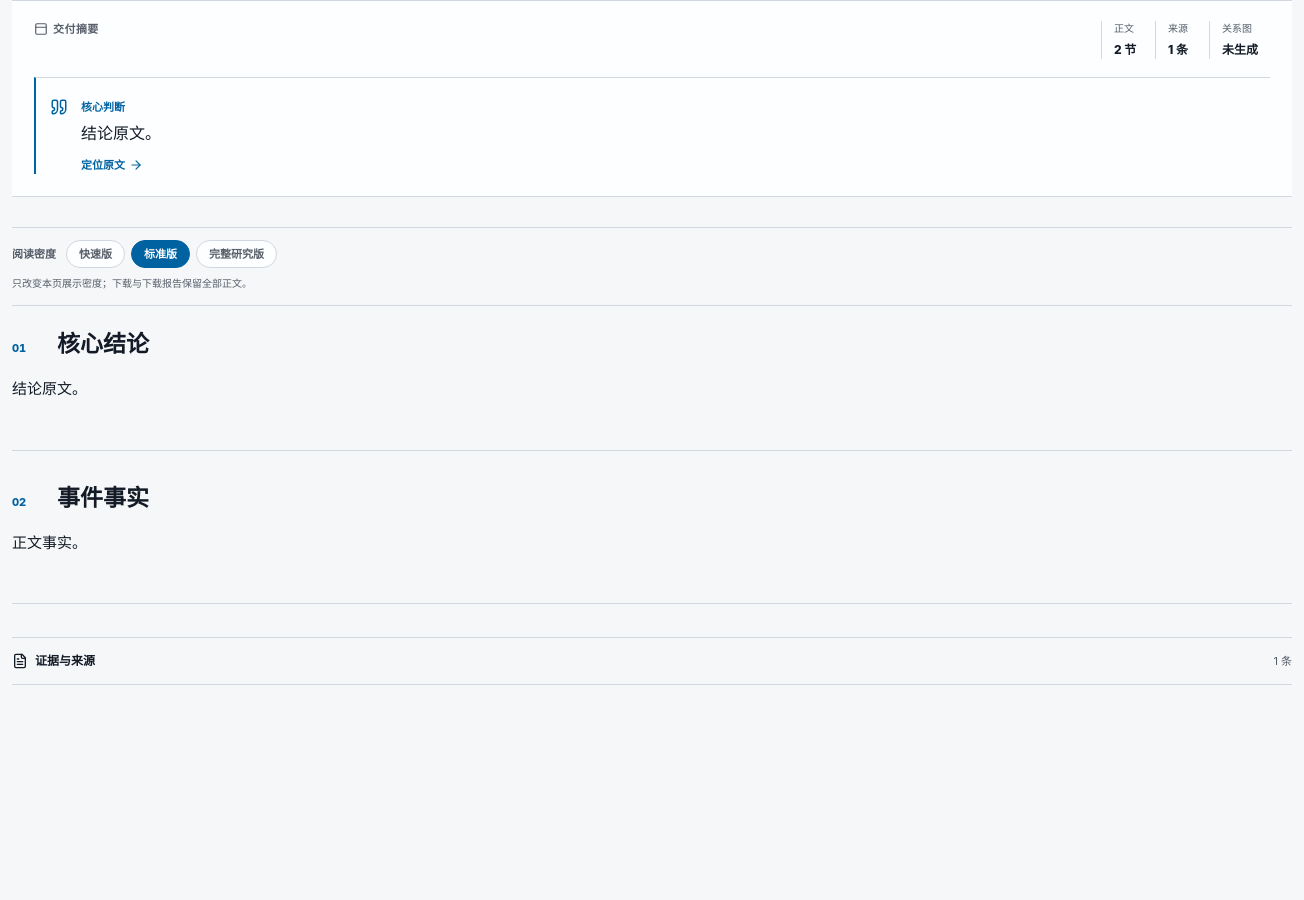
Scenario: ReportPresentation › keeps sources folded until the reader explicitly opens them
Expected: the text "核心判断" is shown, [81,100,125,114]
Expected: the text "结论原文。" is shown 2 times, [81,125,161,142]; [12,379,87,398]
Click the button with aria-label "展开证据与来源": (65, 661) [12,638,1292,684]
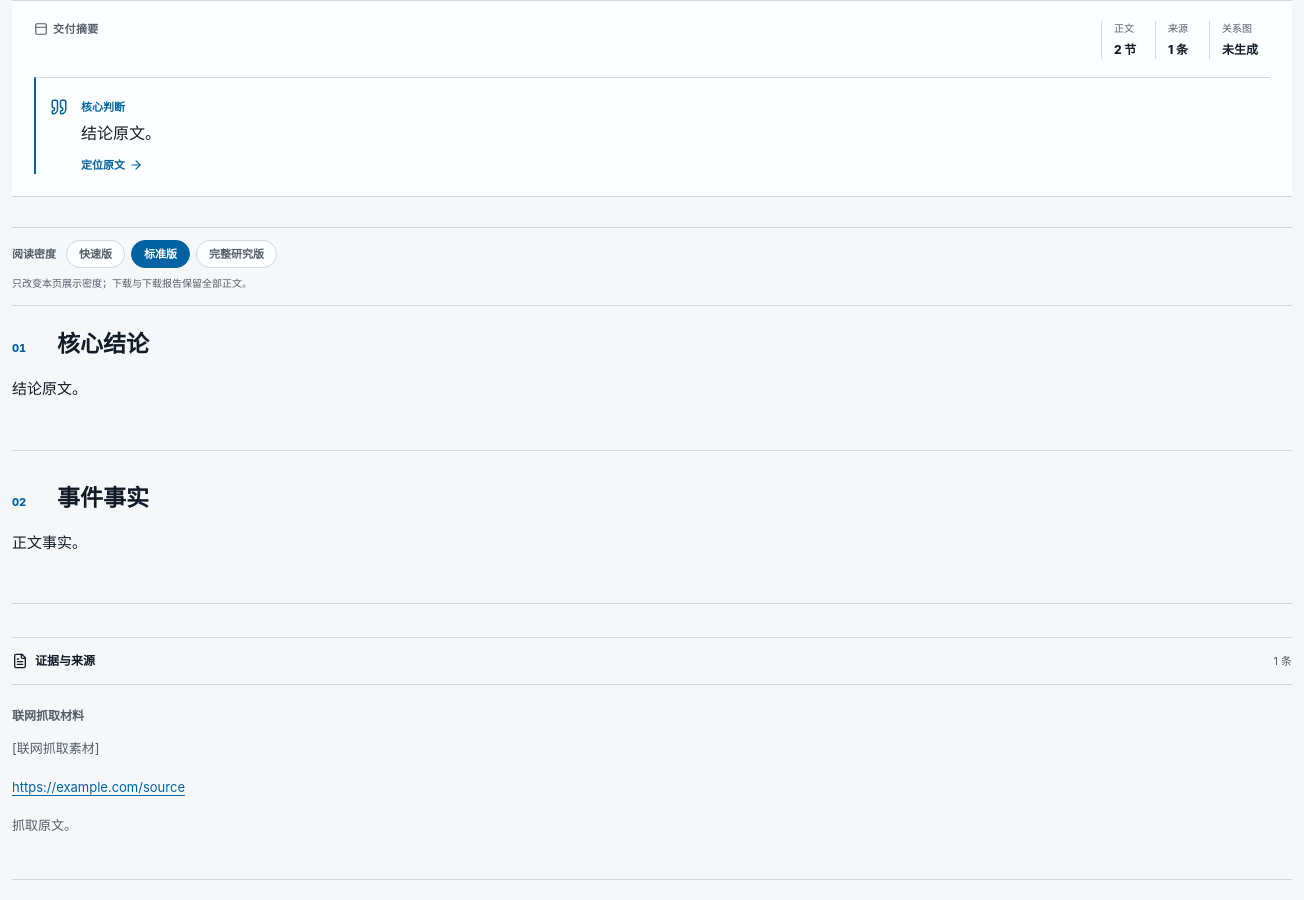
Now the text "抓取原文。" is shown, box [12,817,77,833]
